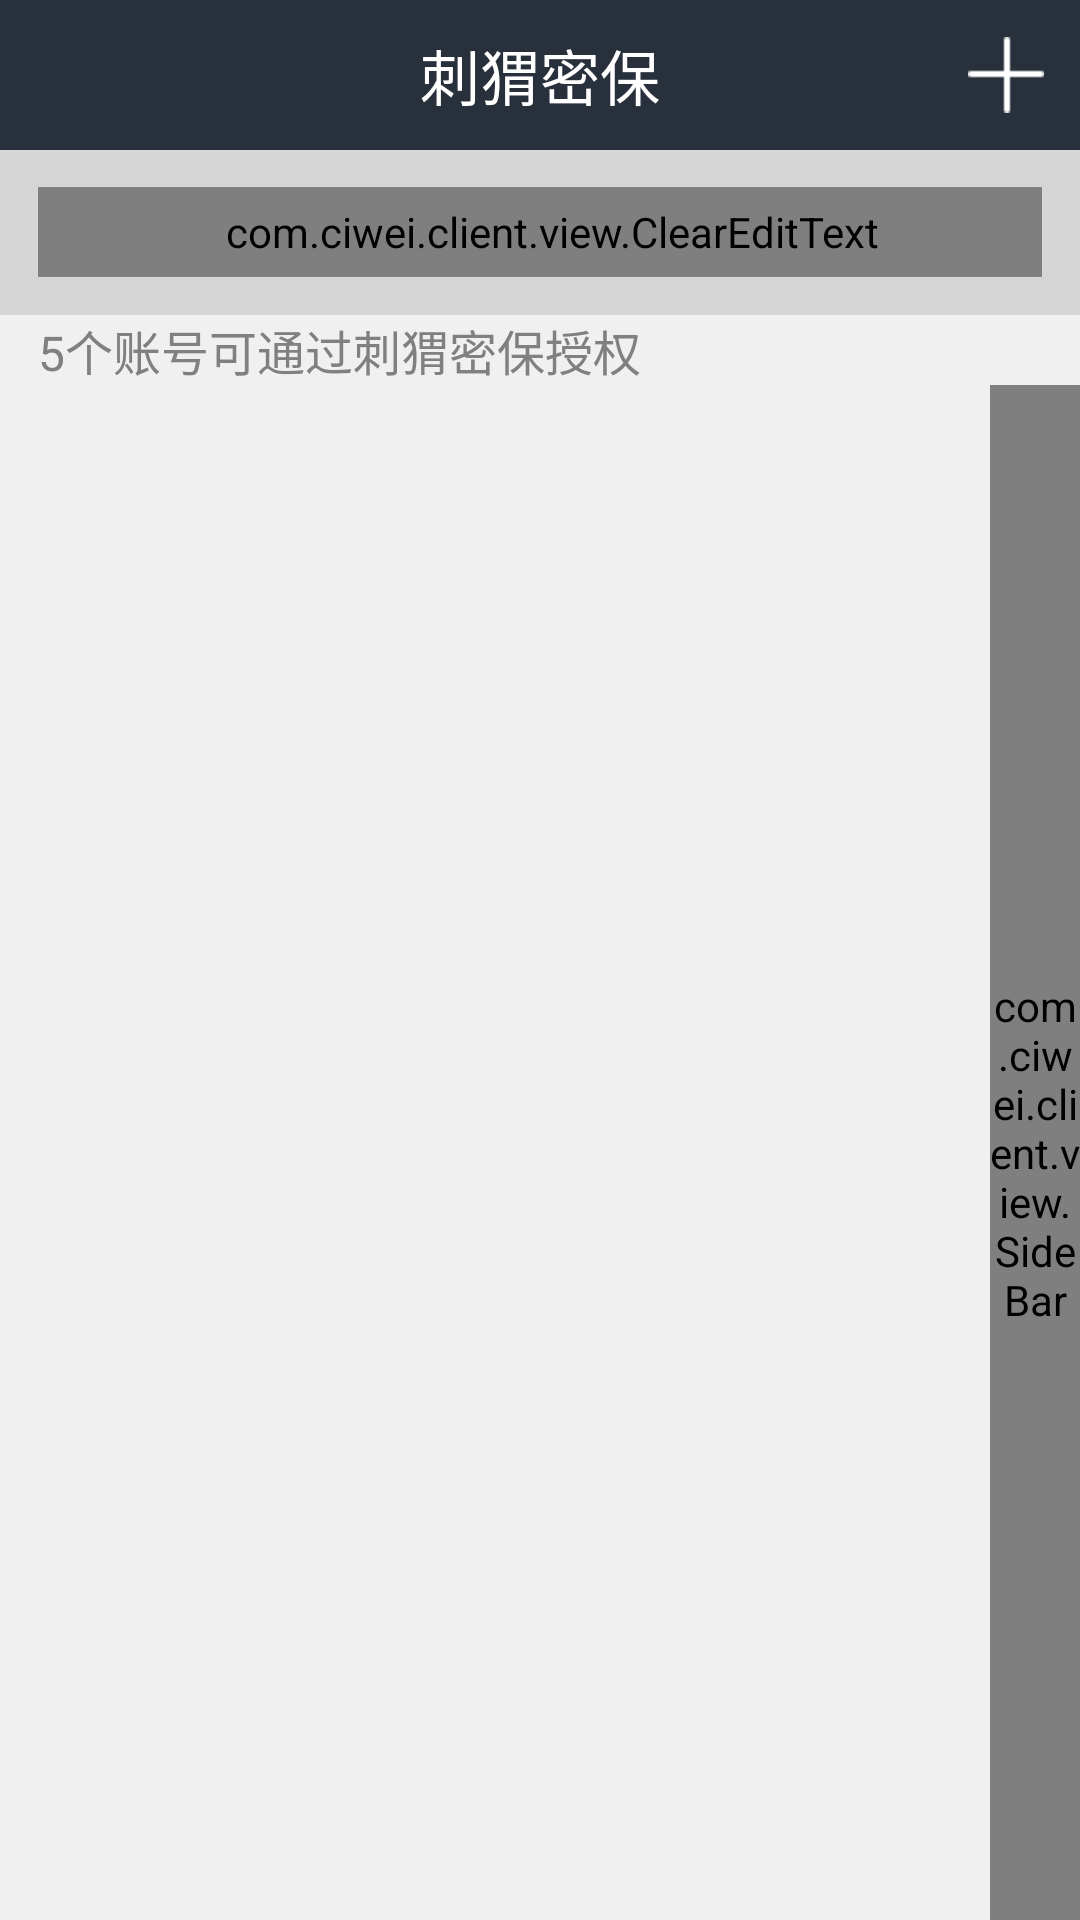

Icon bounding boxes for this 1080px x 1920px phone screenshot, format (x1, y1, x2, y2):
home add: (968, 37, 1044, 113)
